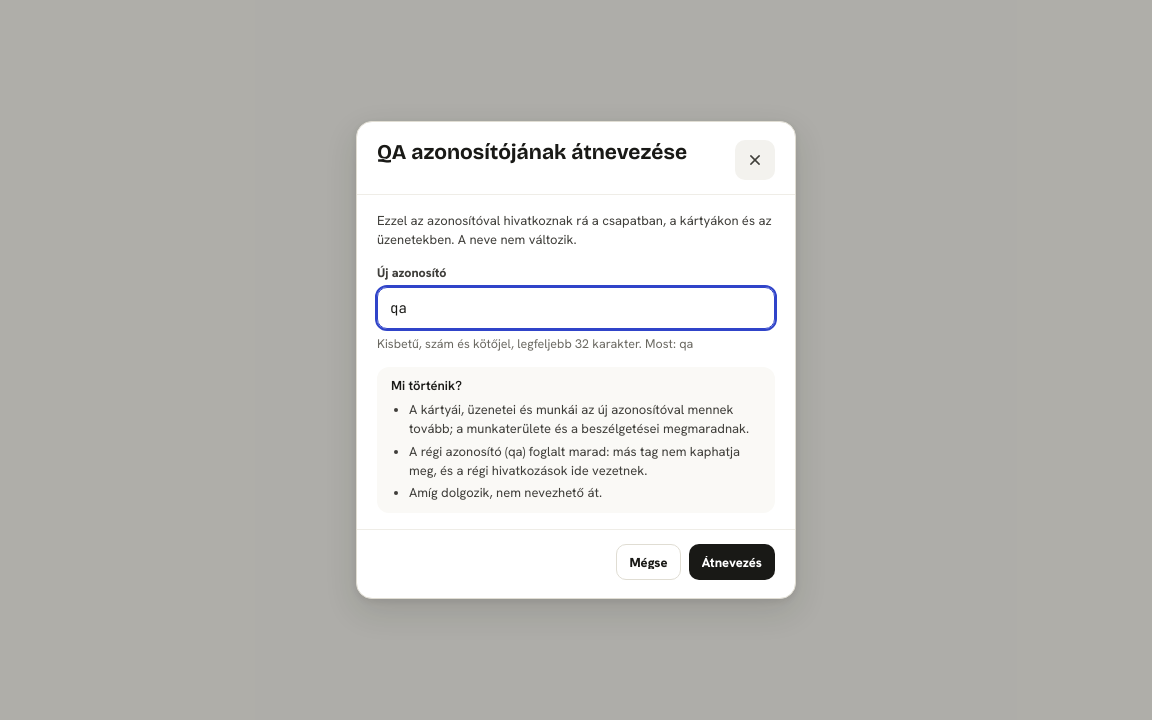
Test: RenameMemberDialog (PM-1026) › refuses a malformed or unchanged handle without asking the server
Replace the text in the field labelled "Új azonosító" with "-bad" at (576, 308), box x1=377 y1=287 x2=775 y2=329
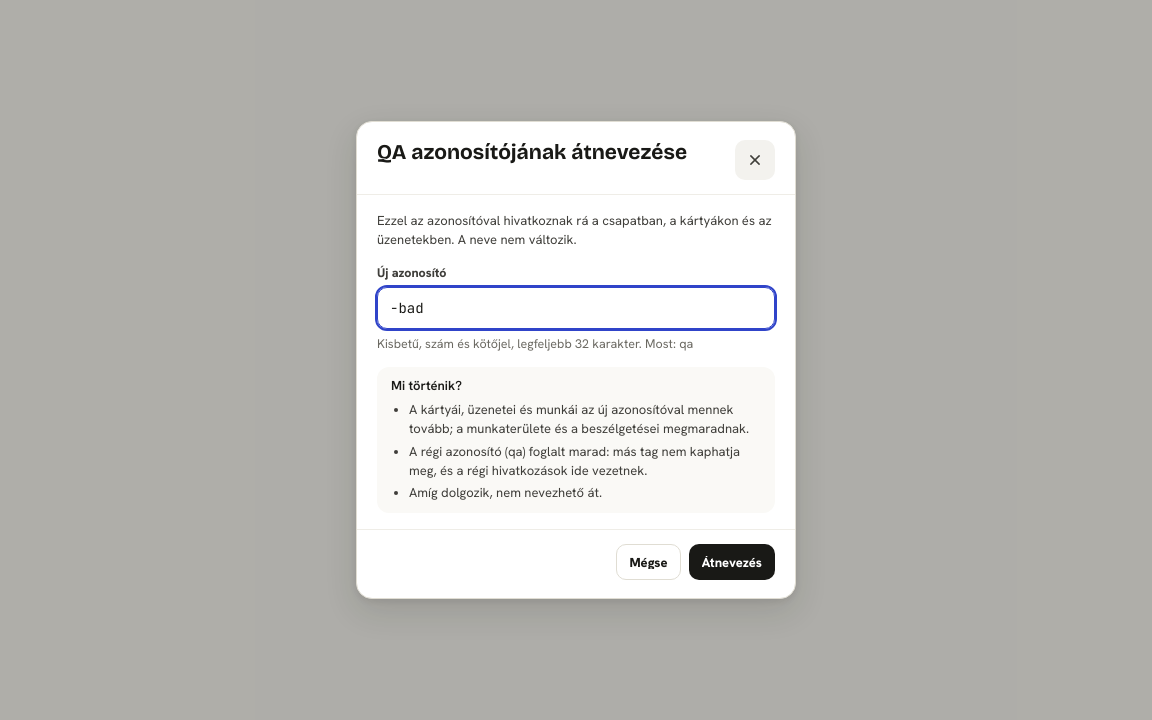
Click the button "Átnevezés" at (732, 562), box x1=688 y1=544 x2=775 y2=580
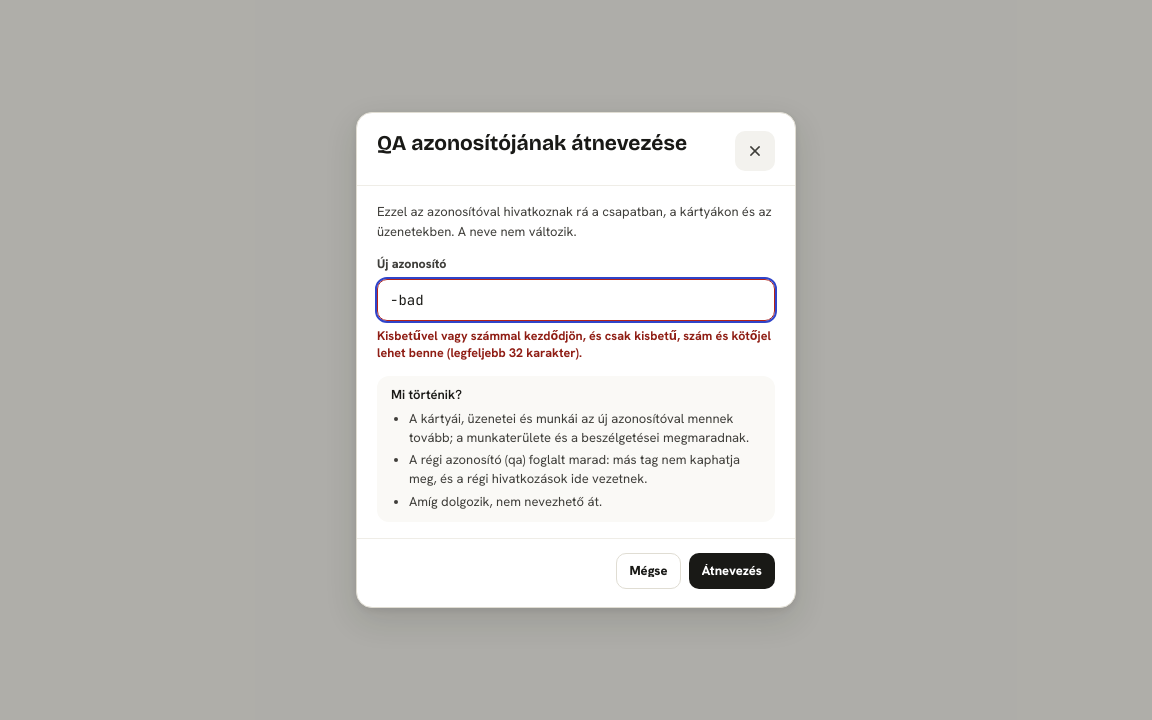
expect the text "Kisbetűvel vagy számmal kezdődjön, és csak kisbetű, szám és kötőjel lehet benne (legfeljebb 32 karakter)." is shown: met, box x1=377 y1=326 x2=771 y2=361
Replace the text in the field labelled "Új azonosító" with "qa" at (576, 300), box x1=377 y1=278 x2=775 y2=320
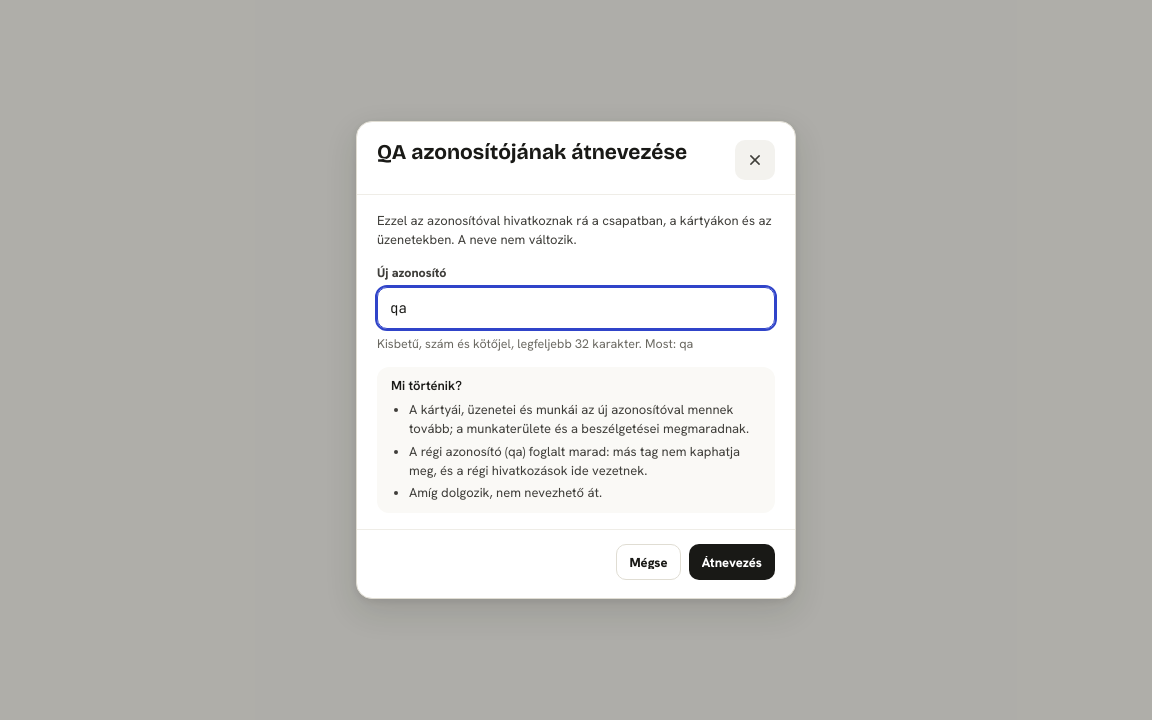
Click the button "Átnevezés" at (732, 562), box x1=688 y1=544 x2=775 y2=580
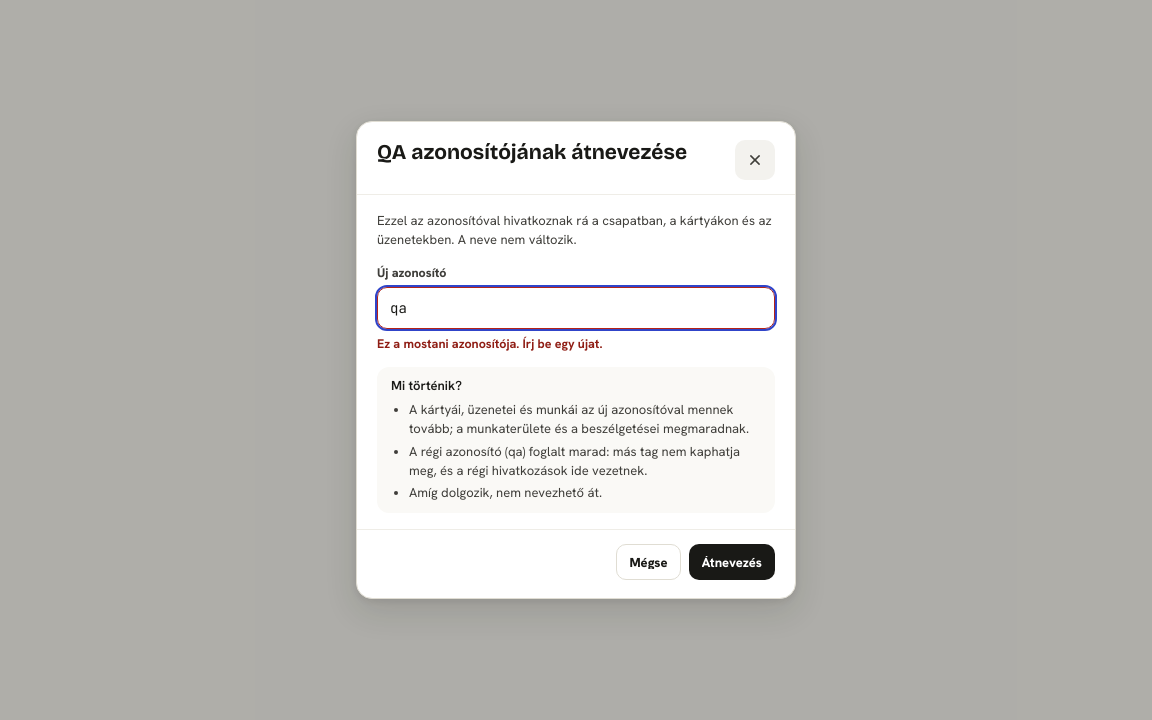
expect the text "Ez a mostani azonosítója. Írj be egy újat." is shown: met, box x1=377 y1=335 x2=602 y2=352
